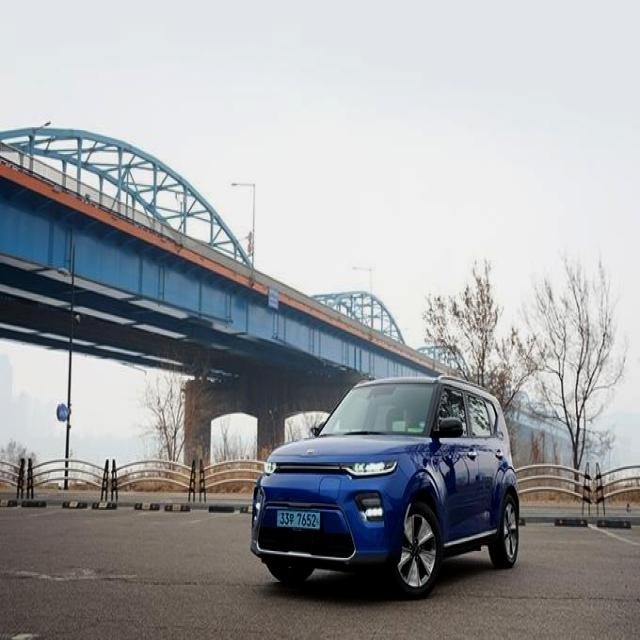EV_plate: (276, 506, 323, 538)
car: (248, 370, 520, 599)
